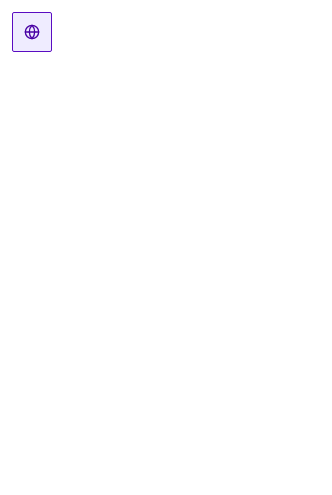
Test: LanguageSelector › keeps the page interactive while the language menu is open
This screenshot has width=332, height=495.
Click the button named "Change language: Română" at (32, 32), box left=12, top=12, right=52, bottom=52
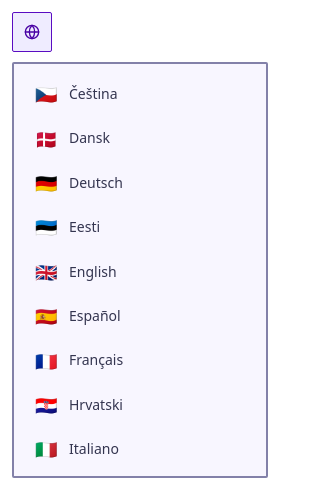
Click the menu item "🇬🇧 English" at (76, 272), box left=35, top=260, right=117, bottom=284
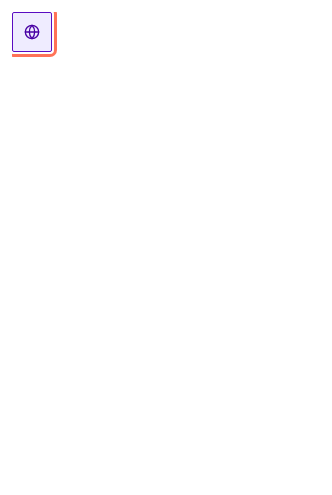
Now the menu is gone
